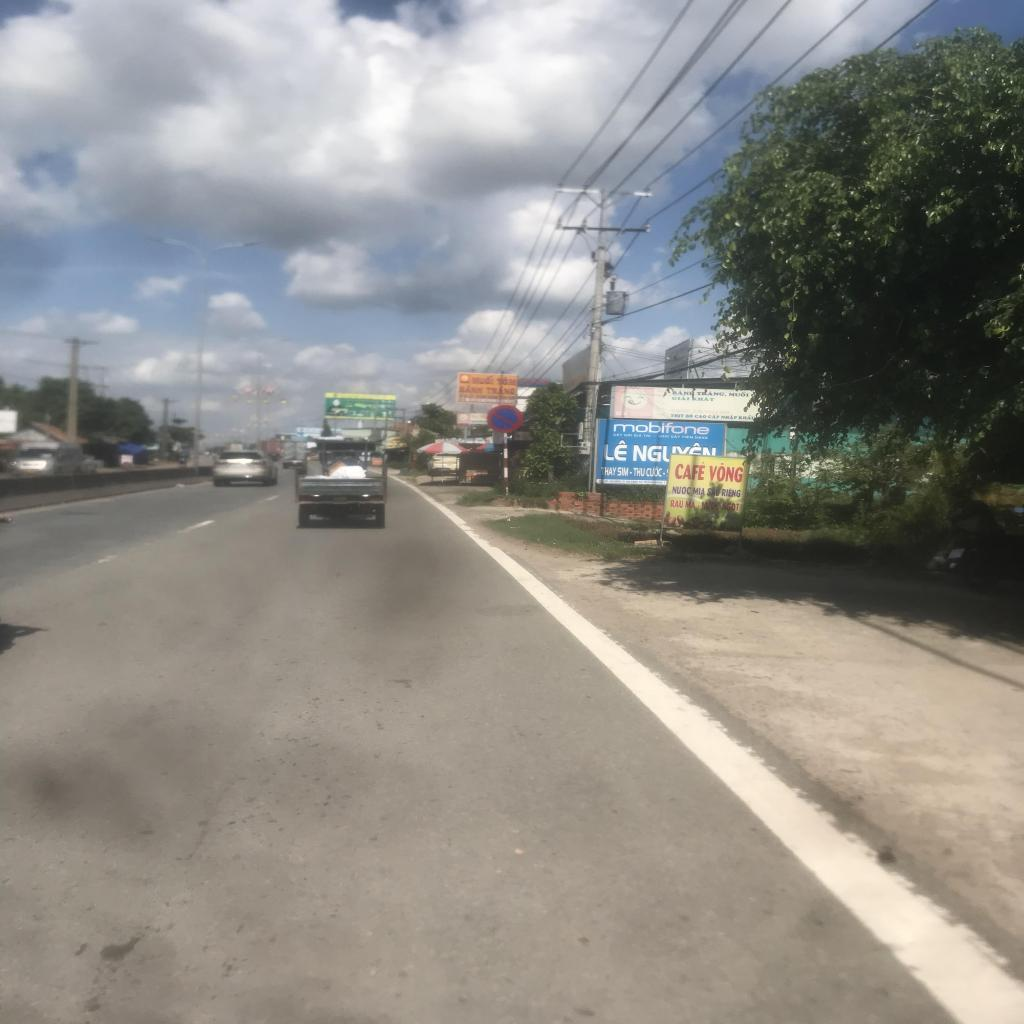cam_do_xe: (485, 404, 524, 434)
